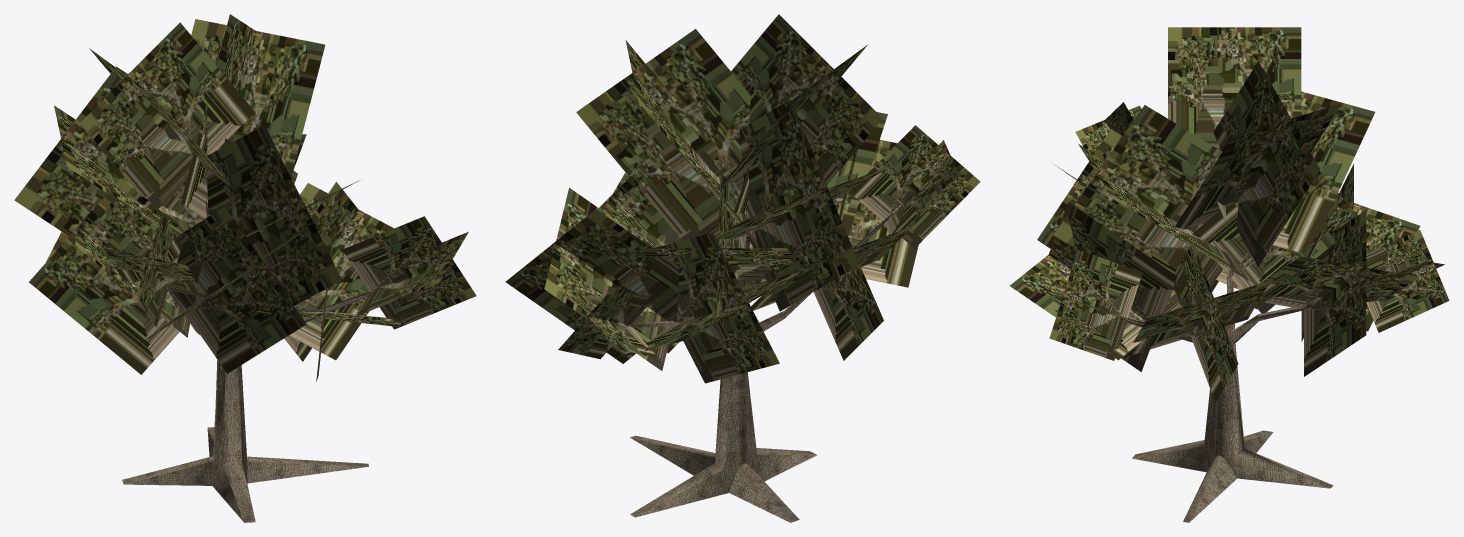
3 renders of one model, left to right at view 1: azimuth 30°, elevation 25°; view 2: azimuth 150°, elevation 25°; view 3: azimuth 270°, elevation 25°, orthographic. The views are drawn at different scales.
Parts seen in each view (by area): view 1: _dt01a; view 2: _dt01a; view 3: _dt01a.
Boxes of the visible parts, box(x1,y1,x2,y2) form: _dt01a: box(14, 14, 476, 522); _dt01a: box(505, 14, 980, 522); _dt01a: box(1010, 27, 1449, 522).
Bounding box in the file's own units: 6.55 × 8.5 × 7.81.
Materials: 2 (2 with a texture image).
